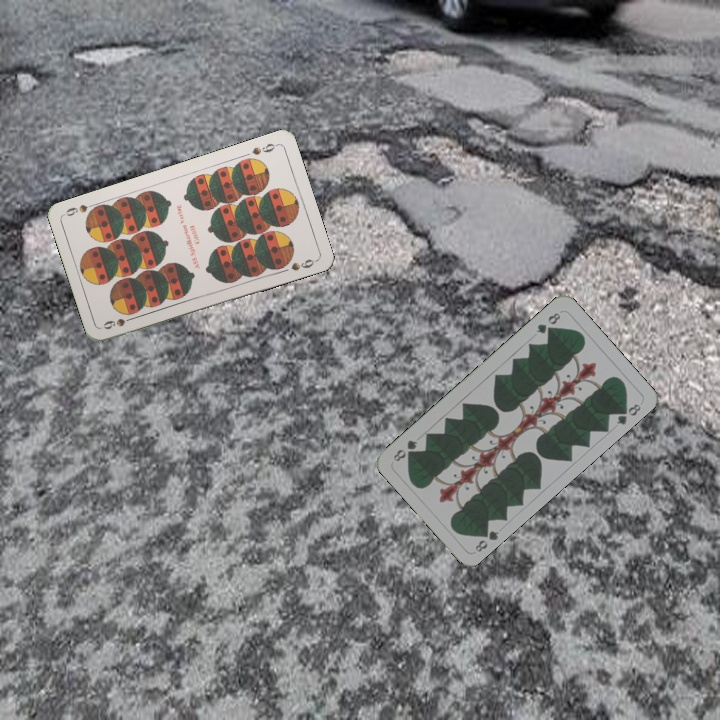G8: (471, 524, 502, 555), (532, 308, 563, 337)
S9: (99, 312, 139, 332), (248, 139, 280, 158)
